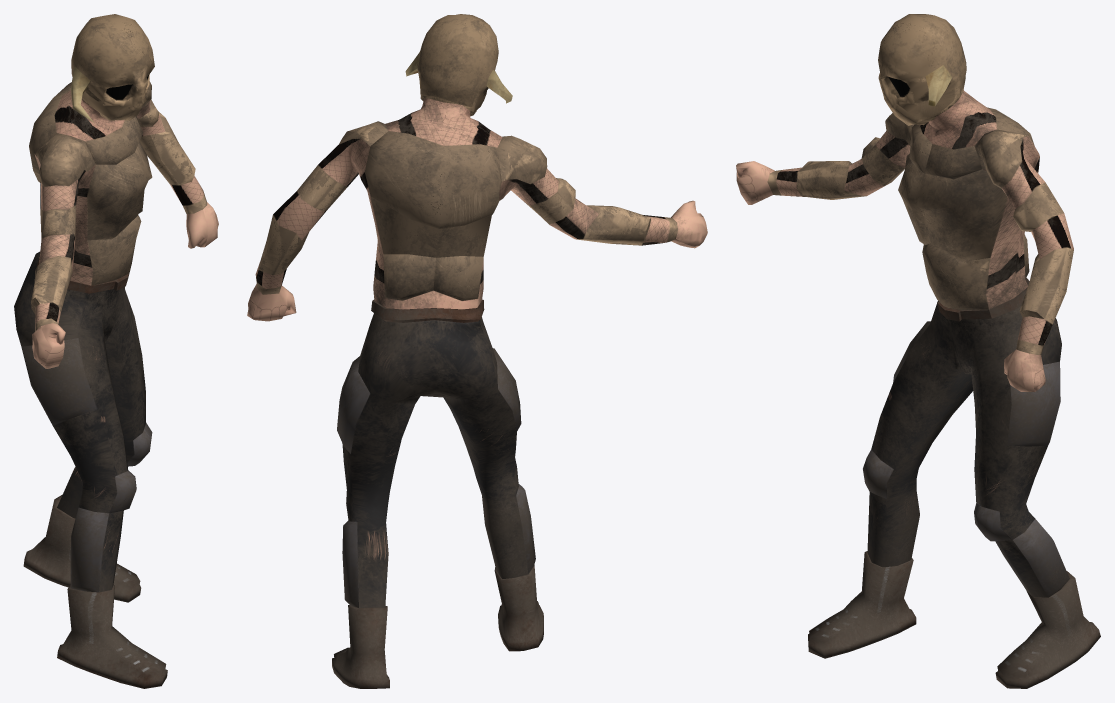
The model's file is Anim_interruptor_npc1.0024.obj.
3 views of the same model, side by side, from view 1: azimuth 30°, elevation 25°; view 2: azimuth 150°, elevation 25°; view 3: azimuth 270°, elevation 25° (orthographic).
Visible parts, largest first — view 1: NPC2; view 2: NPC2; view 3: NPC2.
Part boxes in pixels (bbox=[...]): NPC2: bbox=[14, 14, 218, 688]; NPC2: bbox=[247, 14, 707, 688]; NPC2: bbox=[736, 14, 1100, 688].
Size of the model in its own units: 4.91 by 9.28 by 4.82.
